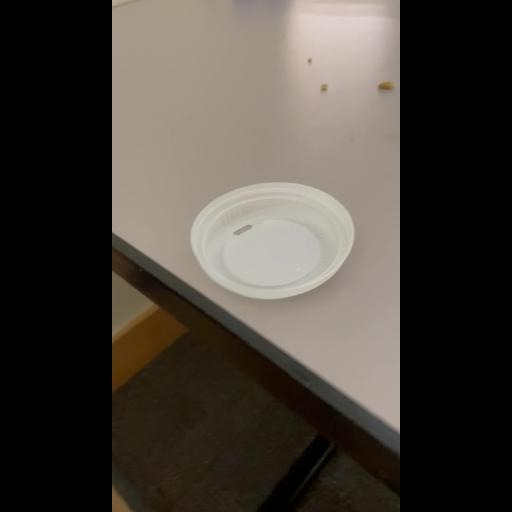lp_cup_lids: (180, 148, 360, 324)
